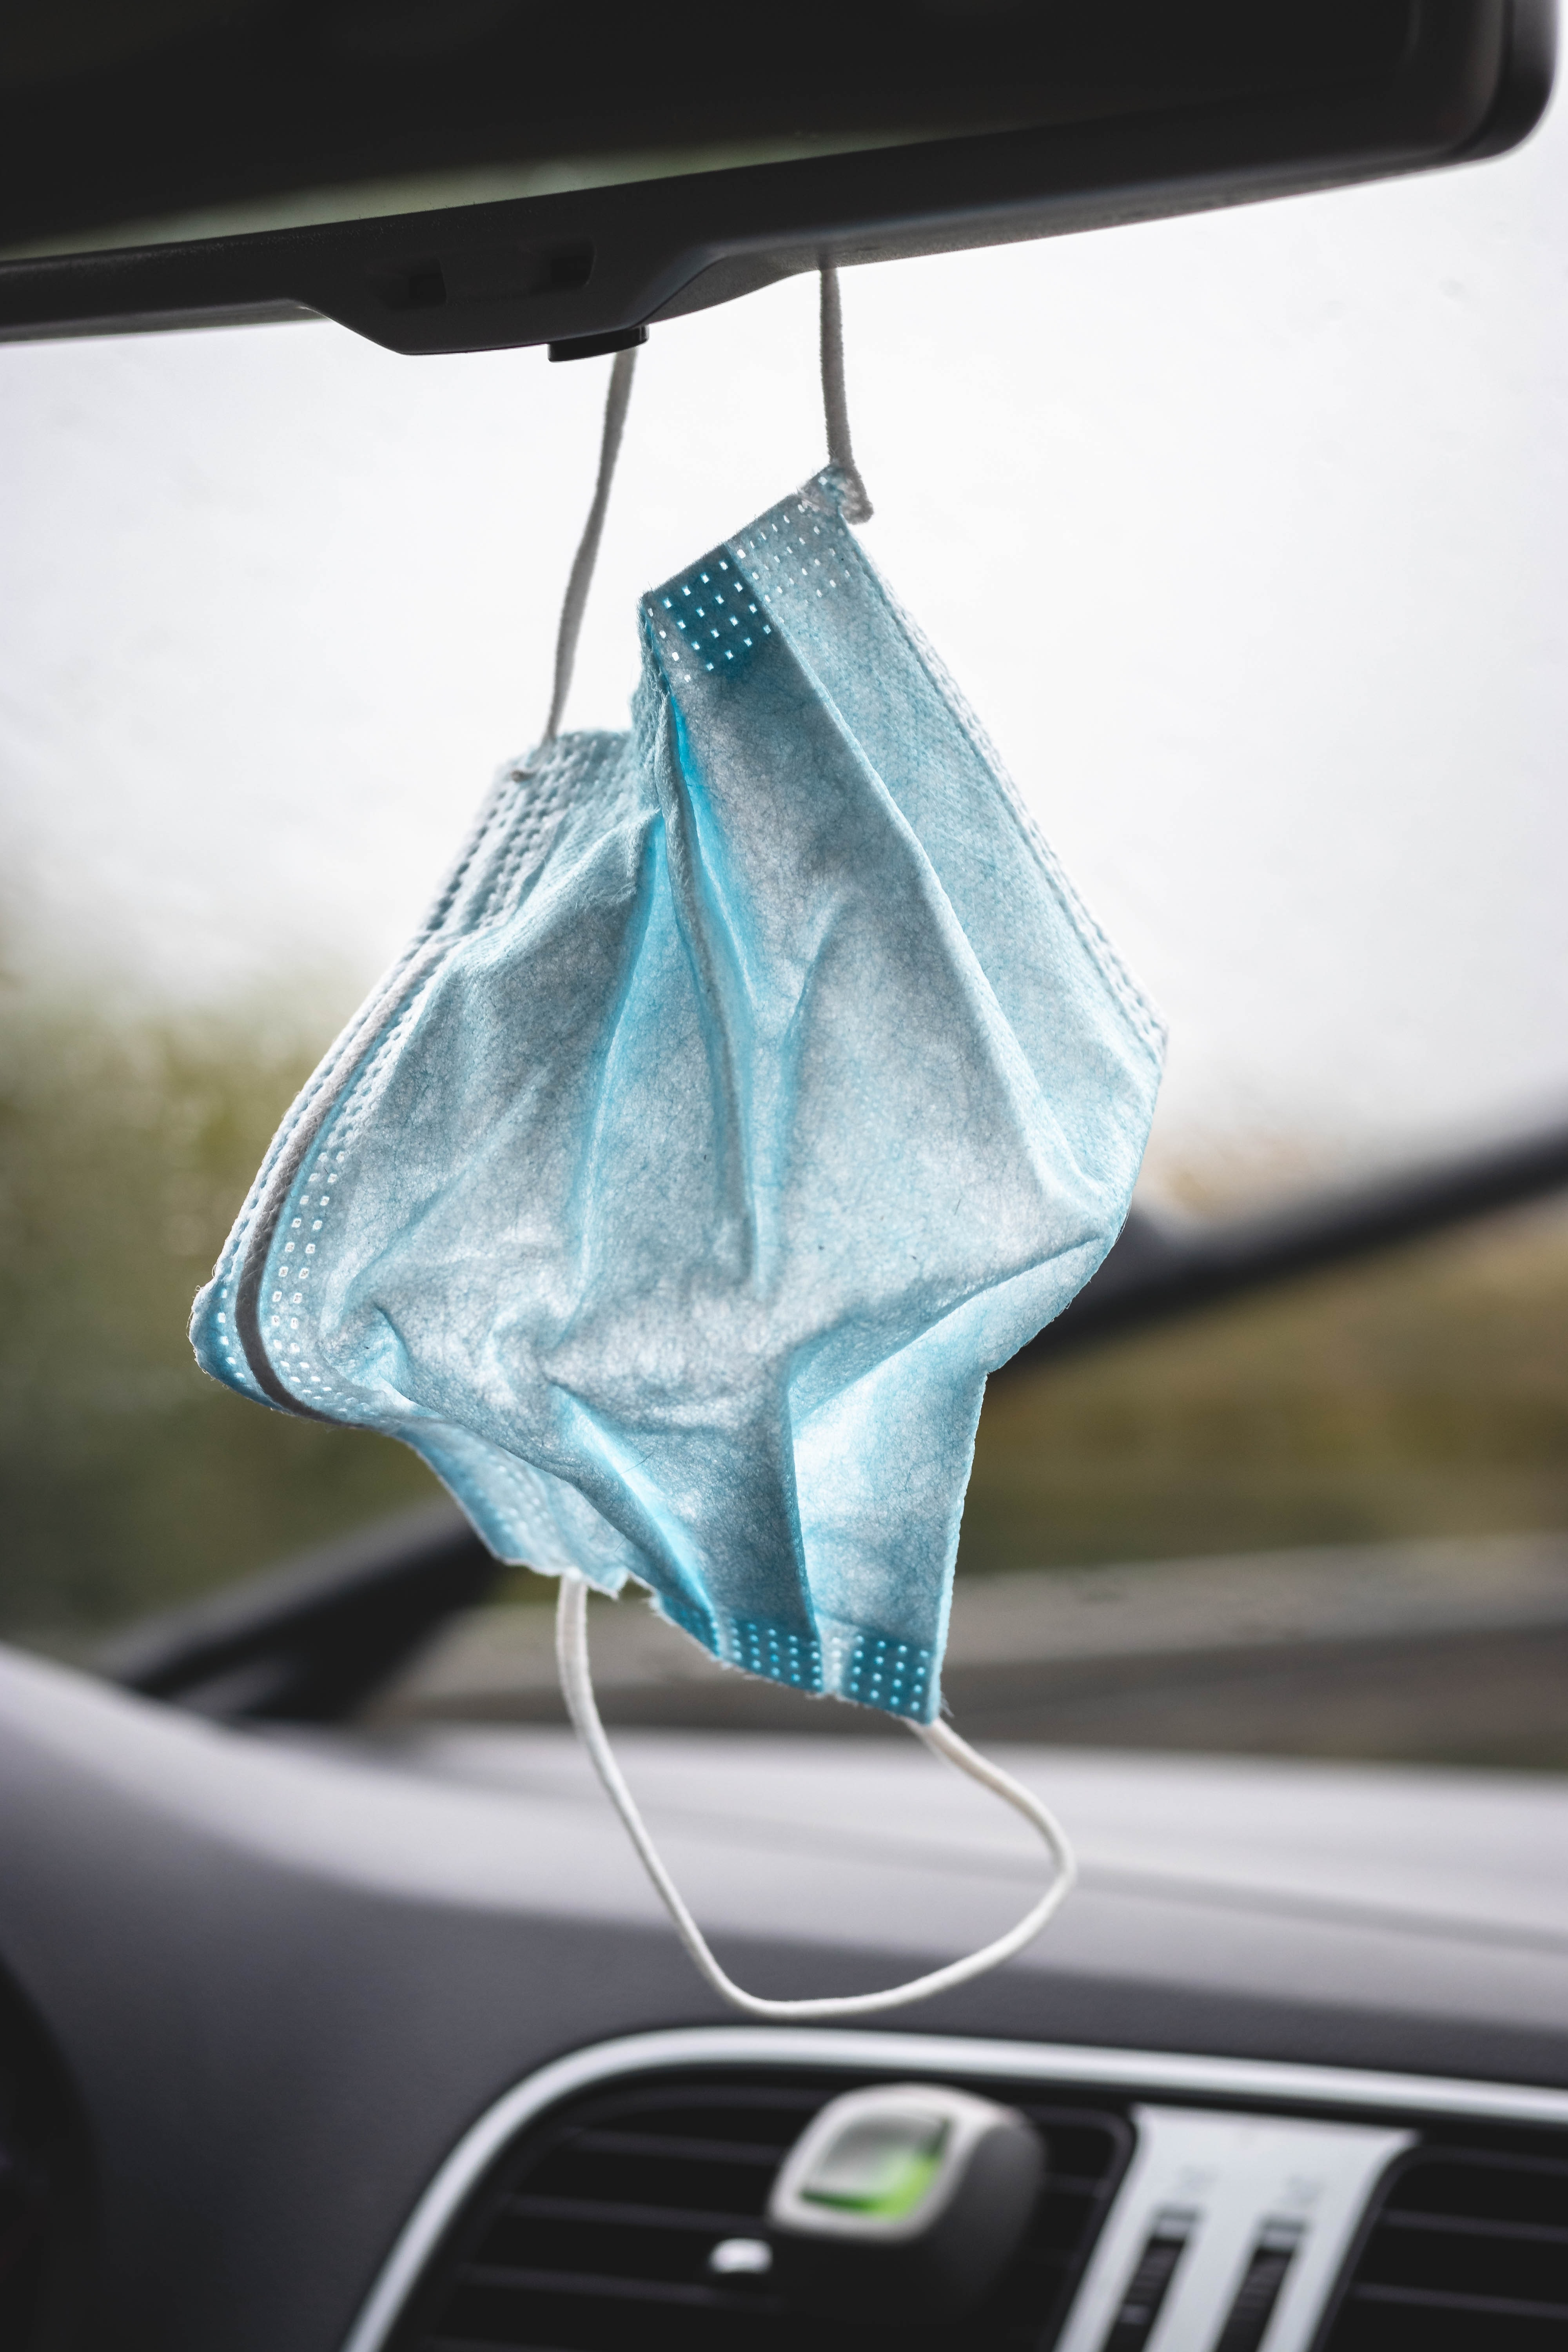mask: (171, 327, 1209, 2026)
